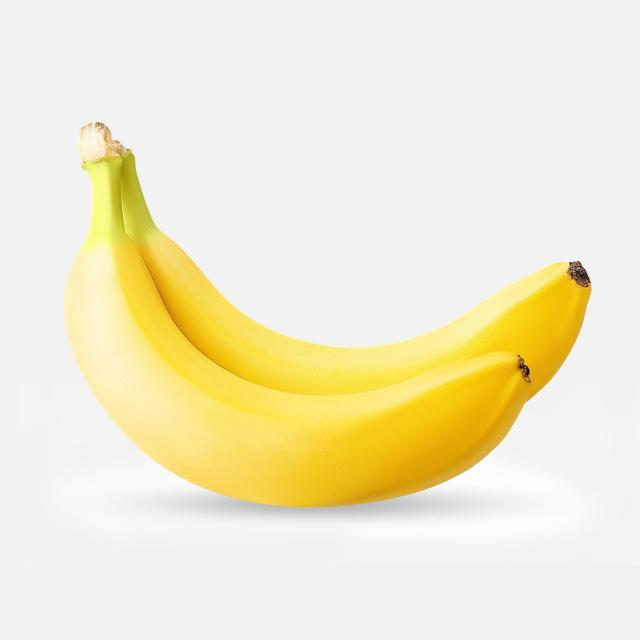banana: (51, 104, 604, 516)
